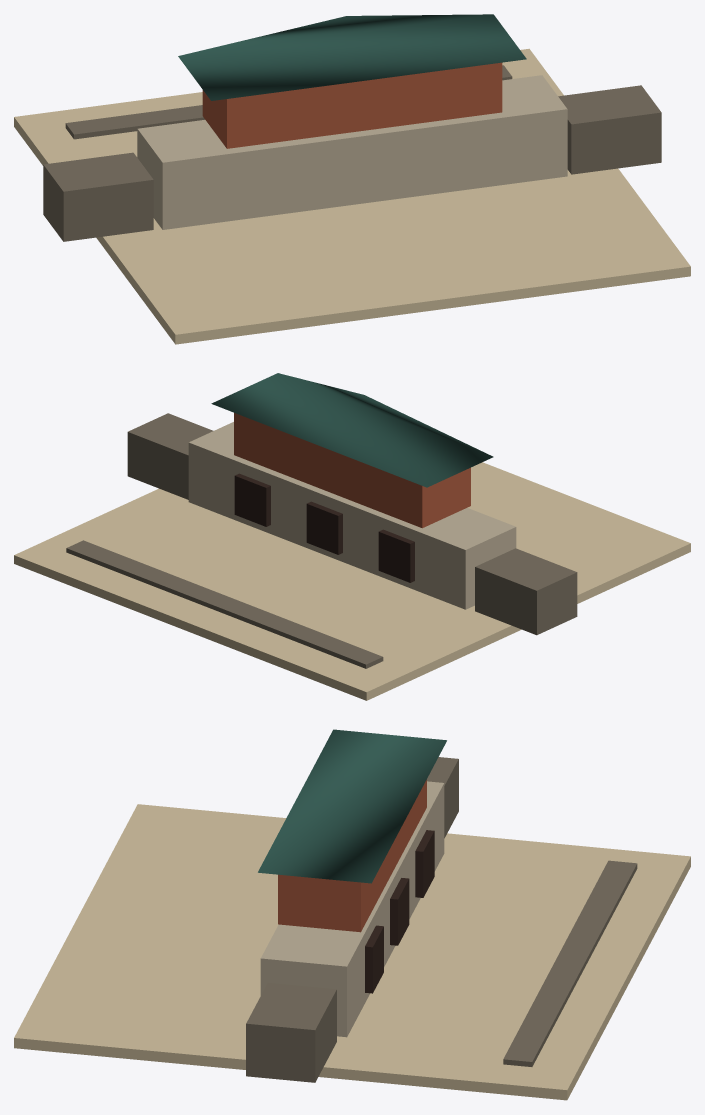
Rendered from model-medium.glb.
3 views of the same model, one above another, from view 1: azimuth 30°, elevation 25°; view 2: azimuth 150°, elevation 25°; view 3: azimuth 270°, elevation 25° (orthographic). The views are drawn at different scales.
Visible parts, largest first — view 1: context_site_plinth, city_gate_platform, gatehouse_roof, side_wall_segment (×2), upper_gatehouse_body, front_scale_strip; view 2: context_site_plinth, city_gate_platform, gatehouse_roof, side_wall_segment (×2), upper_gatehouse_body, front_scale_strip, arched_gate_opening (×3); view 3: context_site_plinth, gatehouse_roof, city_gate_platform, side_wall_segment (×2), front_scale_strip, upper_gatehouse_body, arched_gate_opening (×3).
Boxes of the visible parts, x1,y1,x2,y2 form: context_site_plinth: (14, 48, 690, 344); city_gate_platform: (137, 75, 567, 229); gatehouse_roof: (178, 14, 526, 100); side_wall_segment (×2): (43, 85, 661, 241); upper_gatehouse_body: (202, 62, 502, 148); front_scale_strip: (65, 65, 512, 139); context_site_plinth: (14, 462, 690, 700); city_gate_platform: (188, 422, 516, 609); gatehouse_roof: (211, 373, 493, 487); side_wall_segment (×2): (127, 413, 577, 635); upper_gatehouse_body: (234, 413, 470, 528); front_scale_strip: (66, 540, 383, 668); arched_gate_opening (×3): (234, 473, 414, 582); context_site_plinth: (14, 804, 690, 1100); gatehouse_roof: (258, 729, 446, 883); city_gate_platform: (260, 781, 444, 1037); side_wall_segment (×2): (246, 757, 458, 1082); front_scale_strip: (503, 860, 637, 1066); upper_gatehouse_body: (278, 779, 426, 932); arched_gate_opening (×3): (365, 830, 434, 993).
Bounding box in the file's own units: 9.55 × 2.9 × 9.55.
